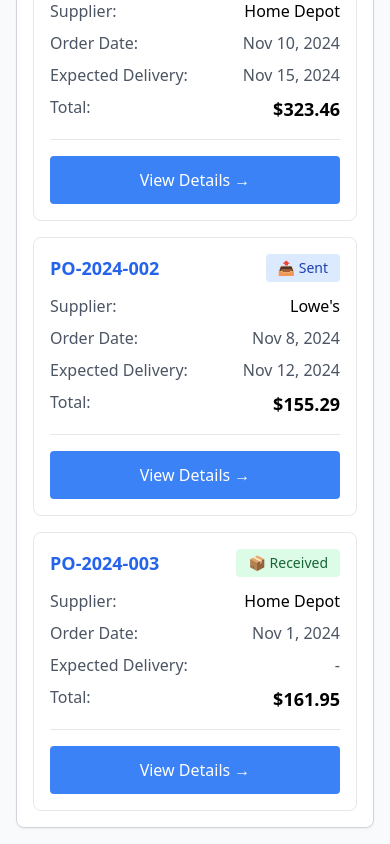
Scenario: PurchaseOrders Component - Phase 2B › should show received date for completed POs
(page scrolled)
// Get the first button (either mobile or desktop view)
Step 1. Click the button "PO-2024-003" → x=139, y=563, box [50,549,228,577]
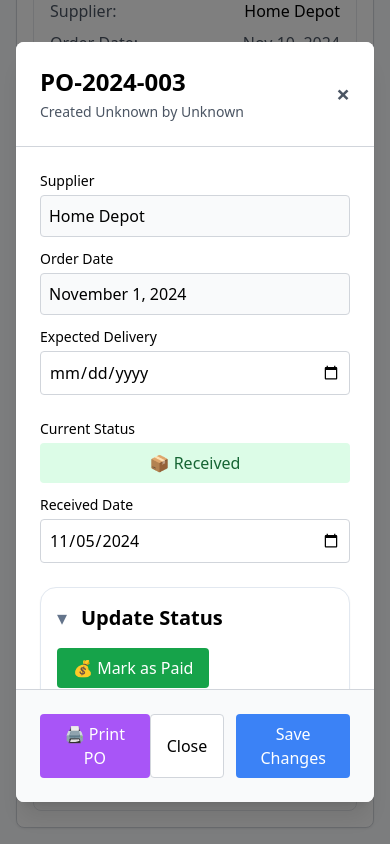
expect the date field labelled "Received Date" is shown: met, box [40,519,350,563]
